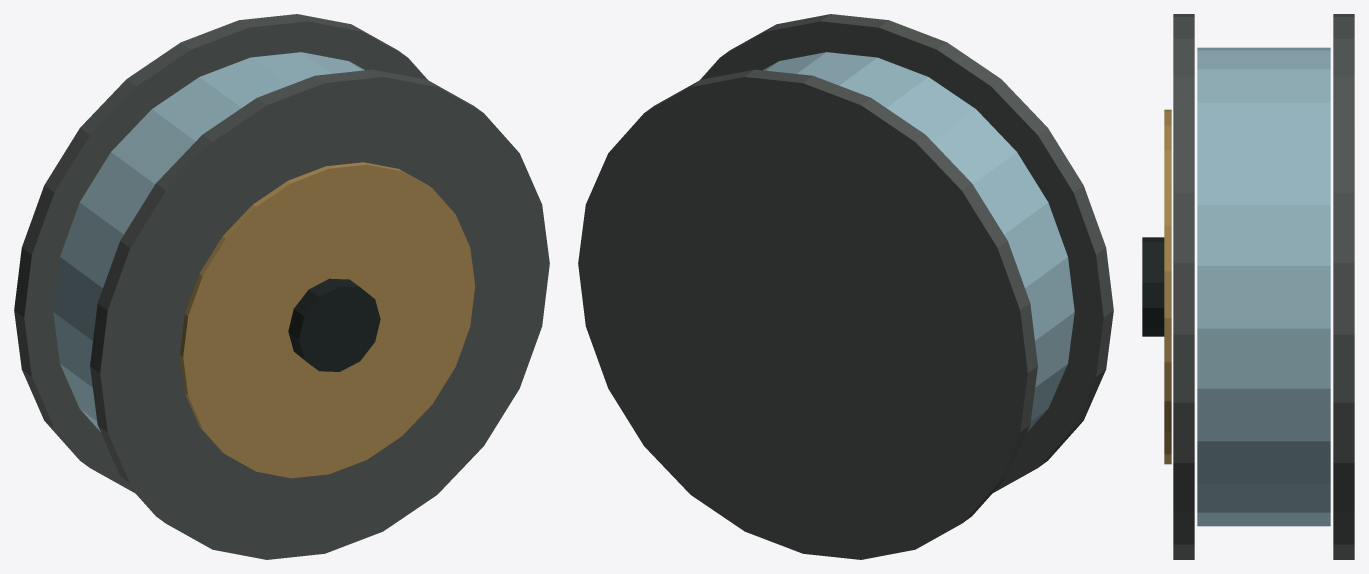
Rendered from fine_line.glb.
3 views of the same model, side by side, from view 1: azimuth 30°, elevation 25°; view 2: azimuth 150°, elevation 25°; view 3: azimuth 270°, elevation 25° (orthographic). The views are drawn at different scales.
Parts seen in each view (by area): view 1: Spool_flange.002, Front_label.001, Spool_flange.003, Wound_line.001, Center_hub; view 2: Spool_flange.003, Spool_flange.002, Wound_line.001; view 3: Wound_line.001, Spool_flange.002, Spool_flange.003, Front_label.001, Center_hub.
Boxes of the visible parts, bbox=[...] form: Spool_flange.002: bbox=[90, 69, 549, 559]; Front_label.001: bbox=[180, 162, 475, 478]; Spool_flange.003: bbox=[14, 14, 427, 493]; Wound_line.001: bbox=[53, 52, 364, 431]; Center_hub: bbox=[288, 278, 380, 371]; Spool_flange.003: bbox=[578, 69, 1037, 559]; Spool_flange.002: bbox=[700, 14, 1113, 493]; Wound_line.001: bbox=[763, 52, 1074, 431]; Wound_line.001: bbox=[1197, 47, 1330, 526]; Spool_flange.002: bbox=[1173, 14, 1194, 559]; Spool_flange.003: bbox=[1333, 14, 1354, 559]; Front_label.001: bbox=[1164, 109, 1171, 464]; Center_hub: bbox=[1142, 237, 1164, 336].
Bounding box in the file's own units: 0.308 × 0.308 × 0.1195.
